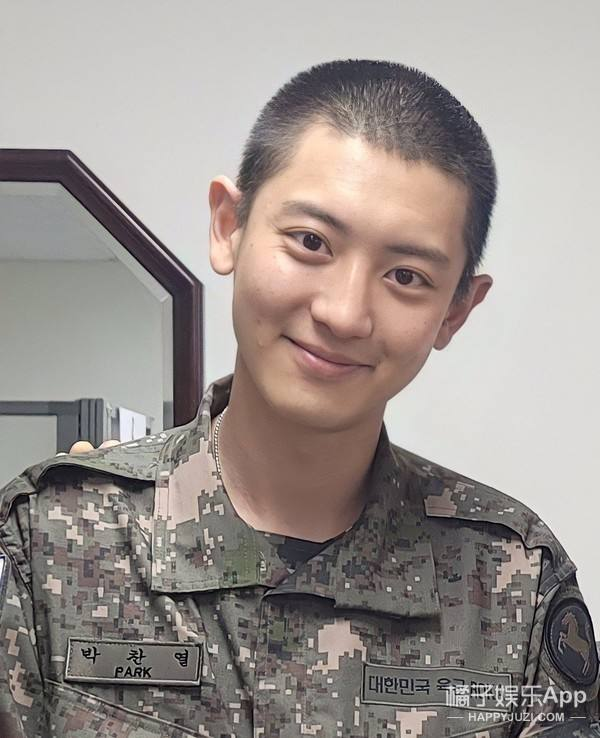person: (96, 68, 547, 515)
